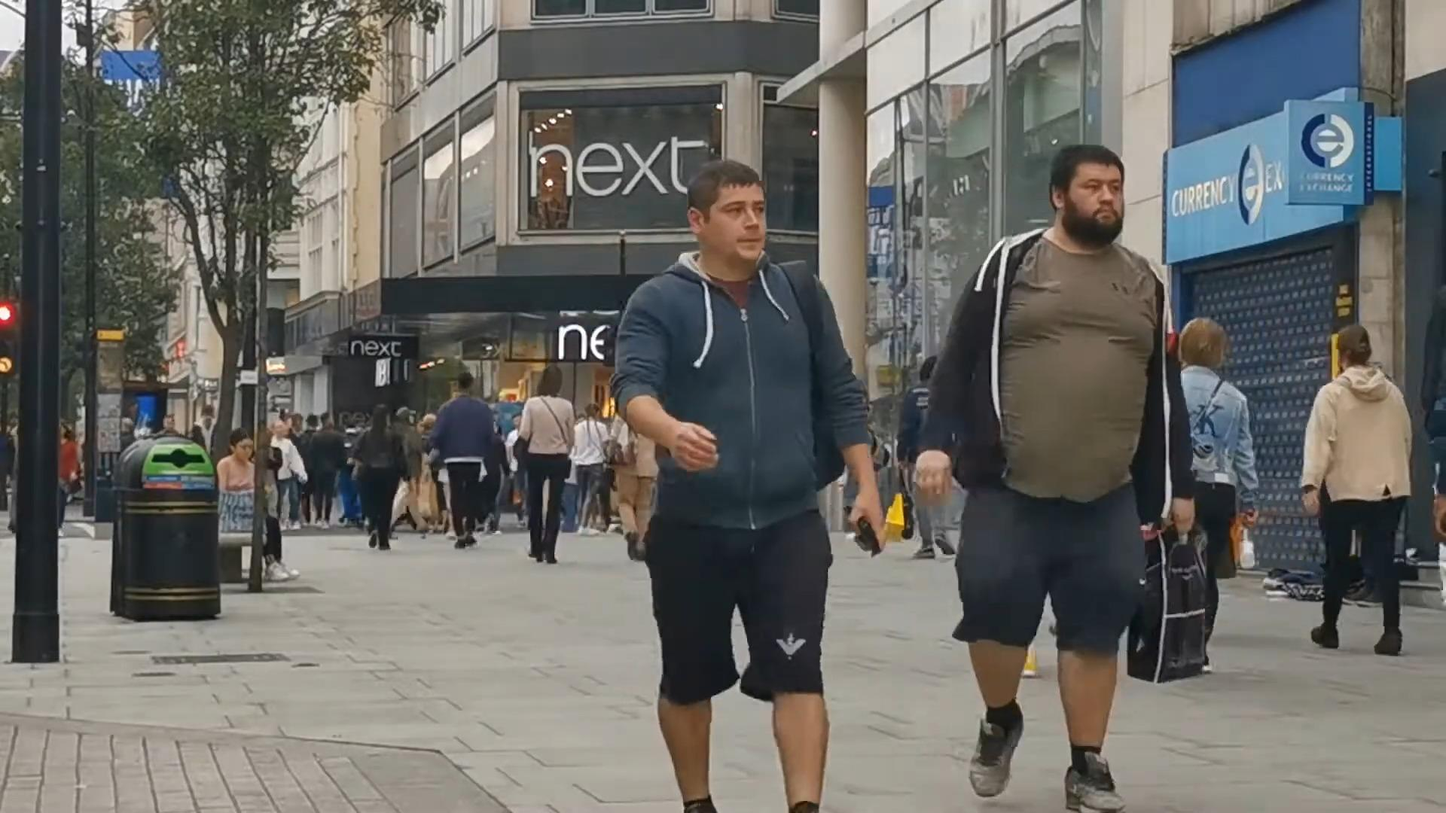no-helmet: (687, 160, 768, 268), (1050, 145, 1124, 250), (1180, 318, 1223, 368), (1336, 324, 1372, 373), (536, 363, 563, 398), (228, 427, 253, 463)
